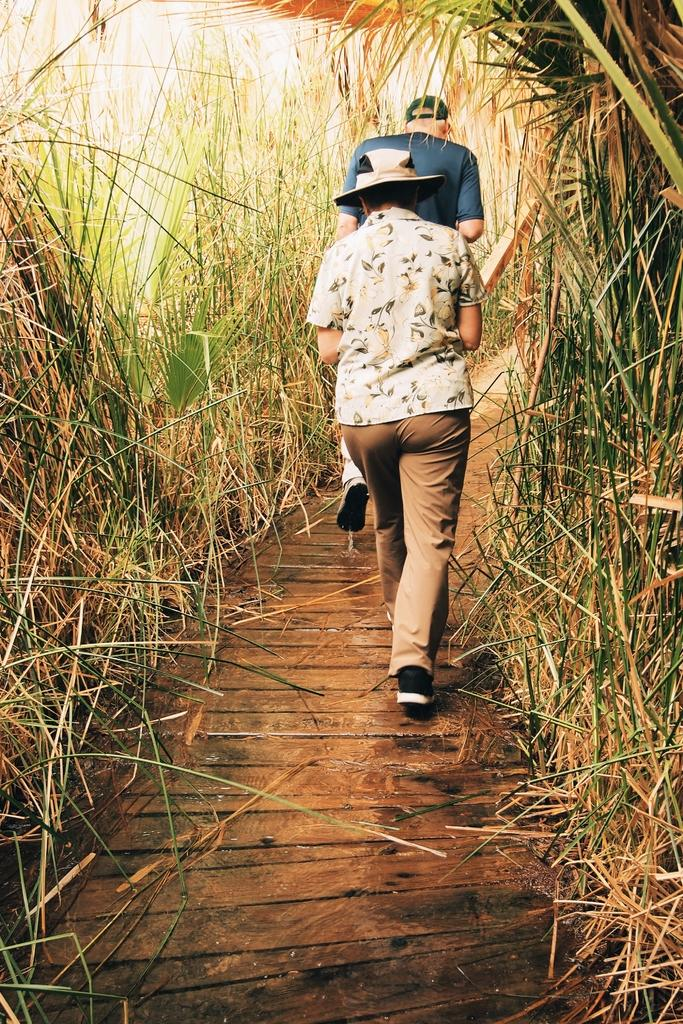Hat: (332, 148, 444, 208), (405, 92, 448, 118)
